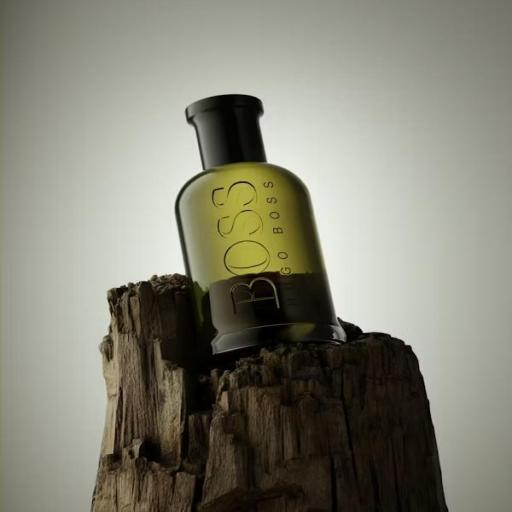bottle: (166, 80, 360, 375)
